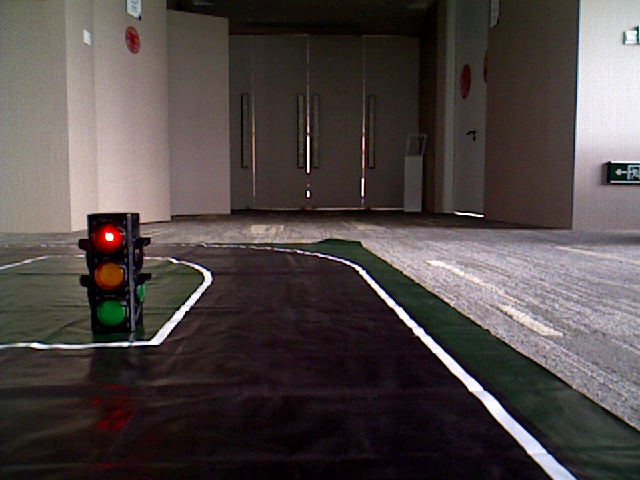red: (86, 215, 136, 337)
